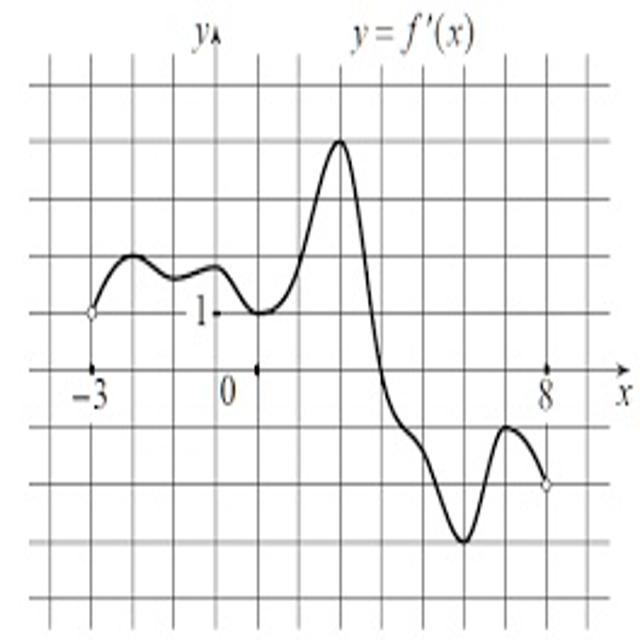line: (86, 136, 551, 548)
